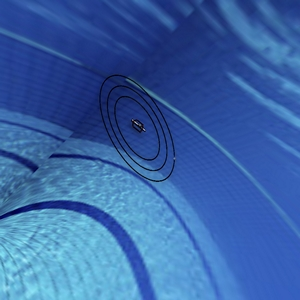circle: (96, 64, 182, 195)
submarine: (129, 114, 146, 138)
